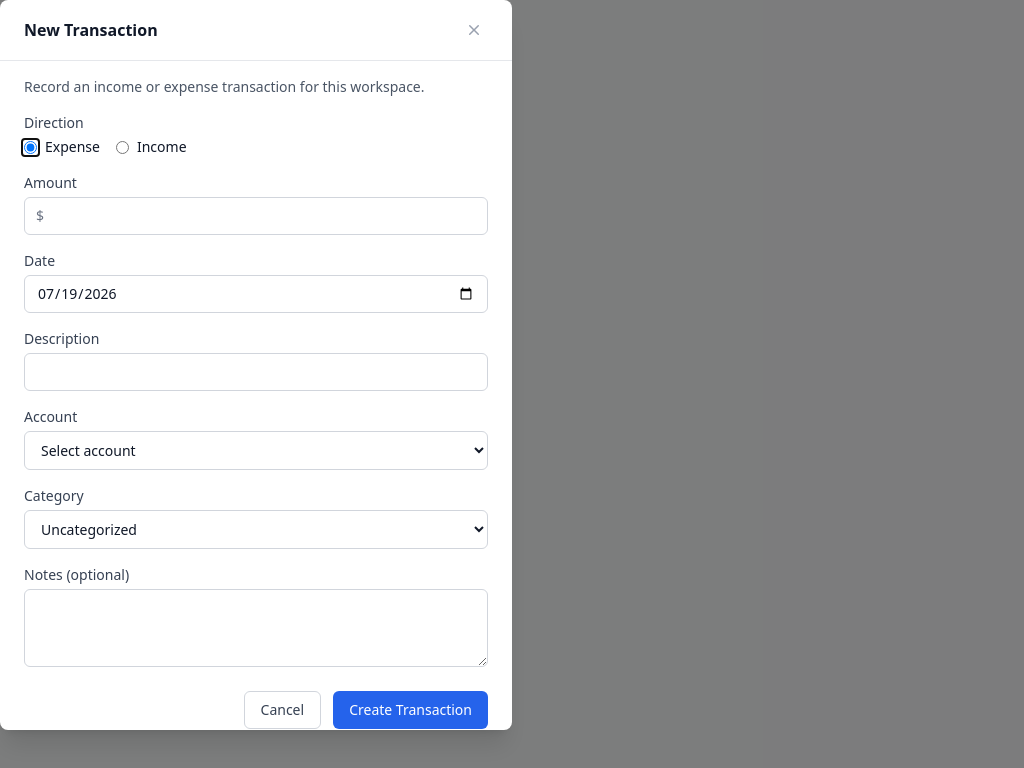
Scenario: CreateTransactionDialog — amount and direction › blocks submission on a zero amount and keeps zero from becoming -0
Type "42.50" into the field labelled "Amount" at (256, 216), box [24, 197, 488, 235]
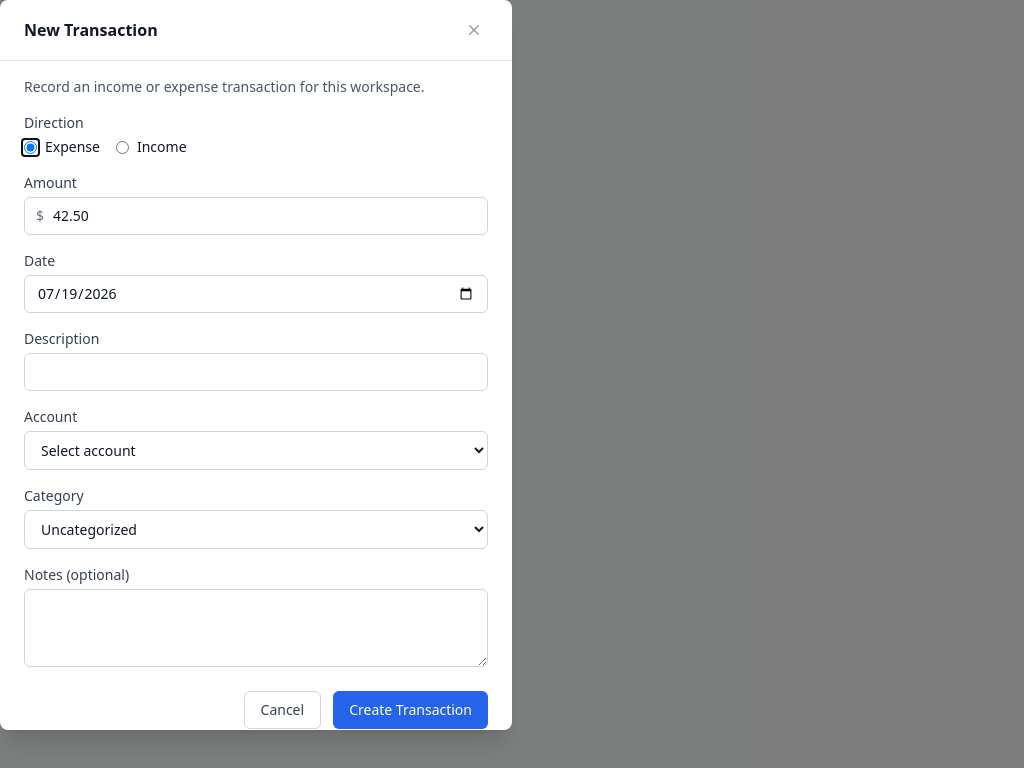
Type "Groceries run" into the field labelled "Description" at (256, 372), box [24, 353, 488, 391]
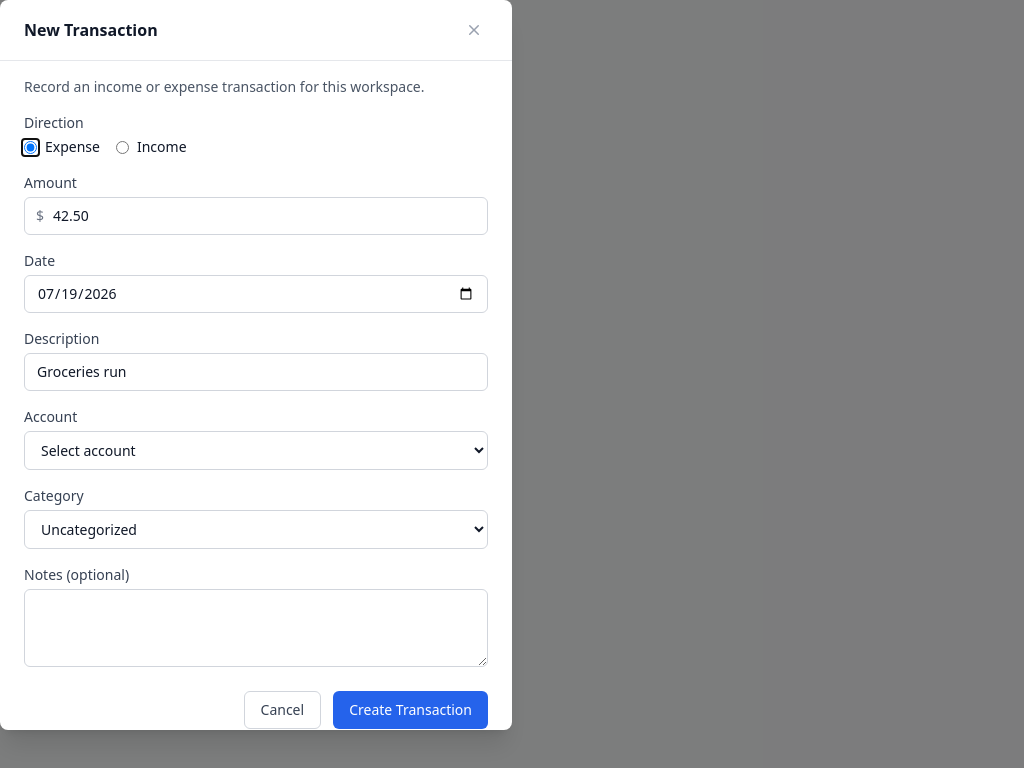
Select "Everyday Checking" in the dropdown labelled "Account" at (256, 450), box [24, 431, 488, 470]
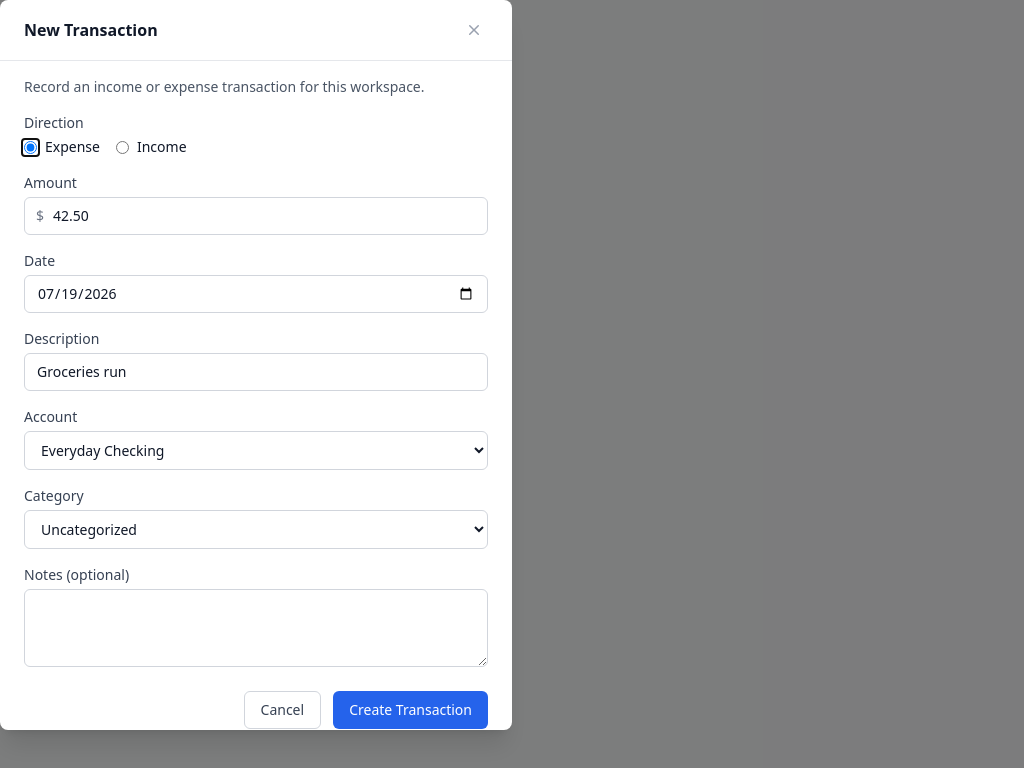
Replace the text in the field labelled "Amount" with "0" at (256, 216), box [24, 197, 488, 235]
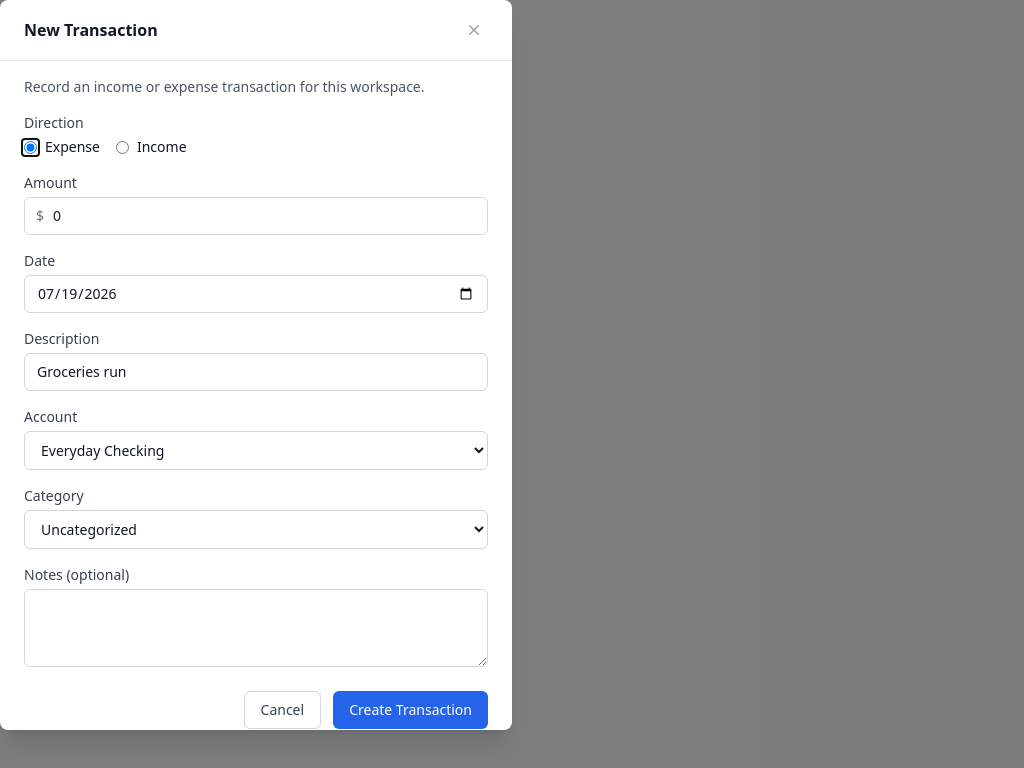
Click the button "Create Transaction" at (411, 710), box [333, 691, 488, 729]
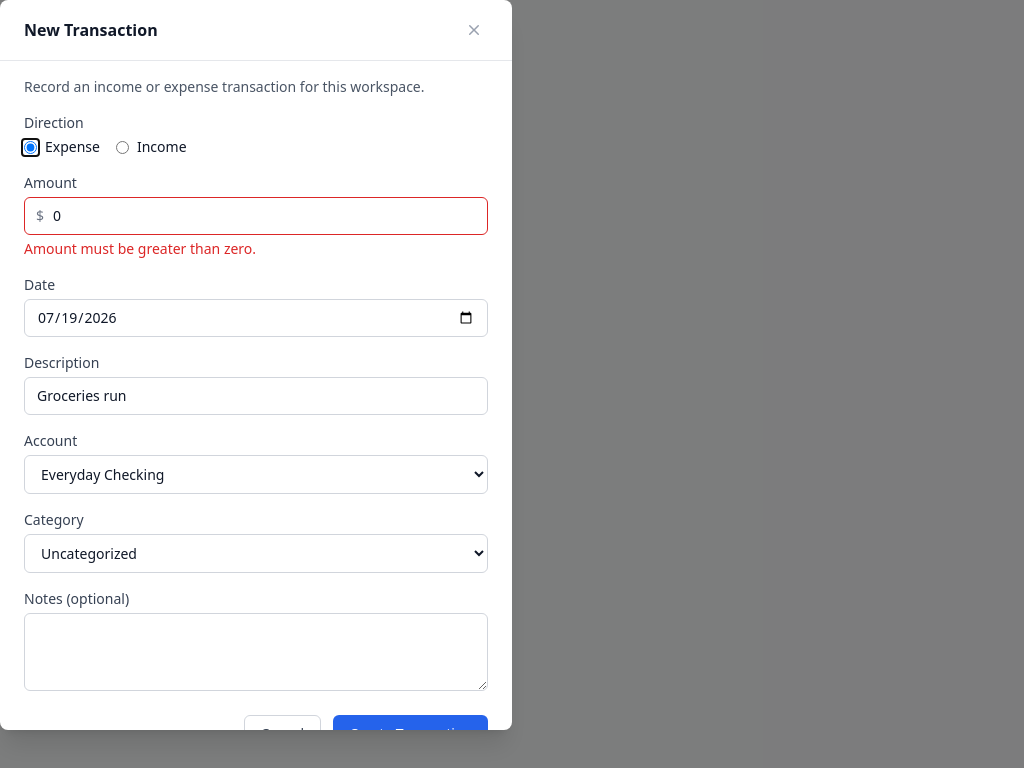
Check: the text "Amount must be greater than zero." is shown, box [24, 239, 256, 258]
